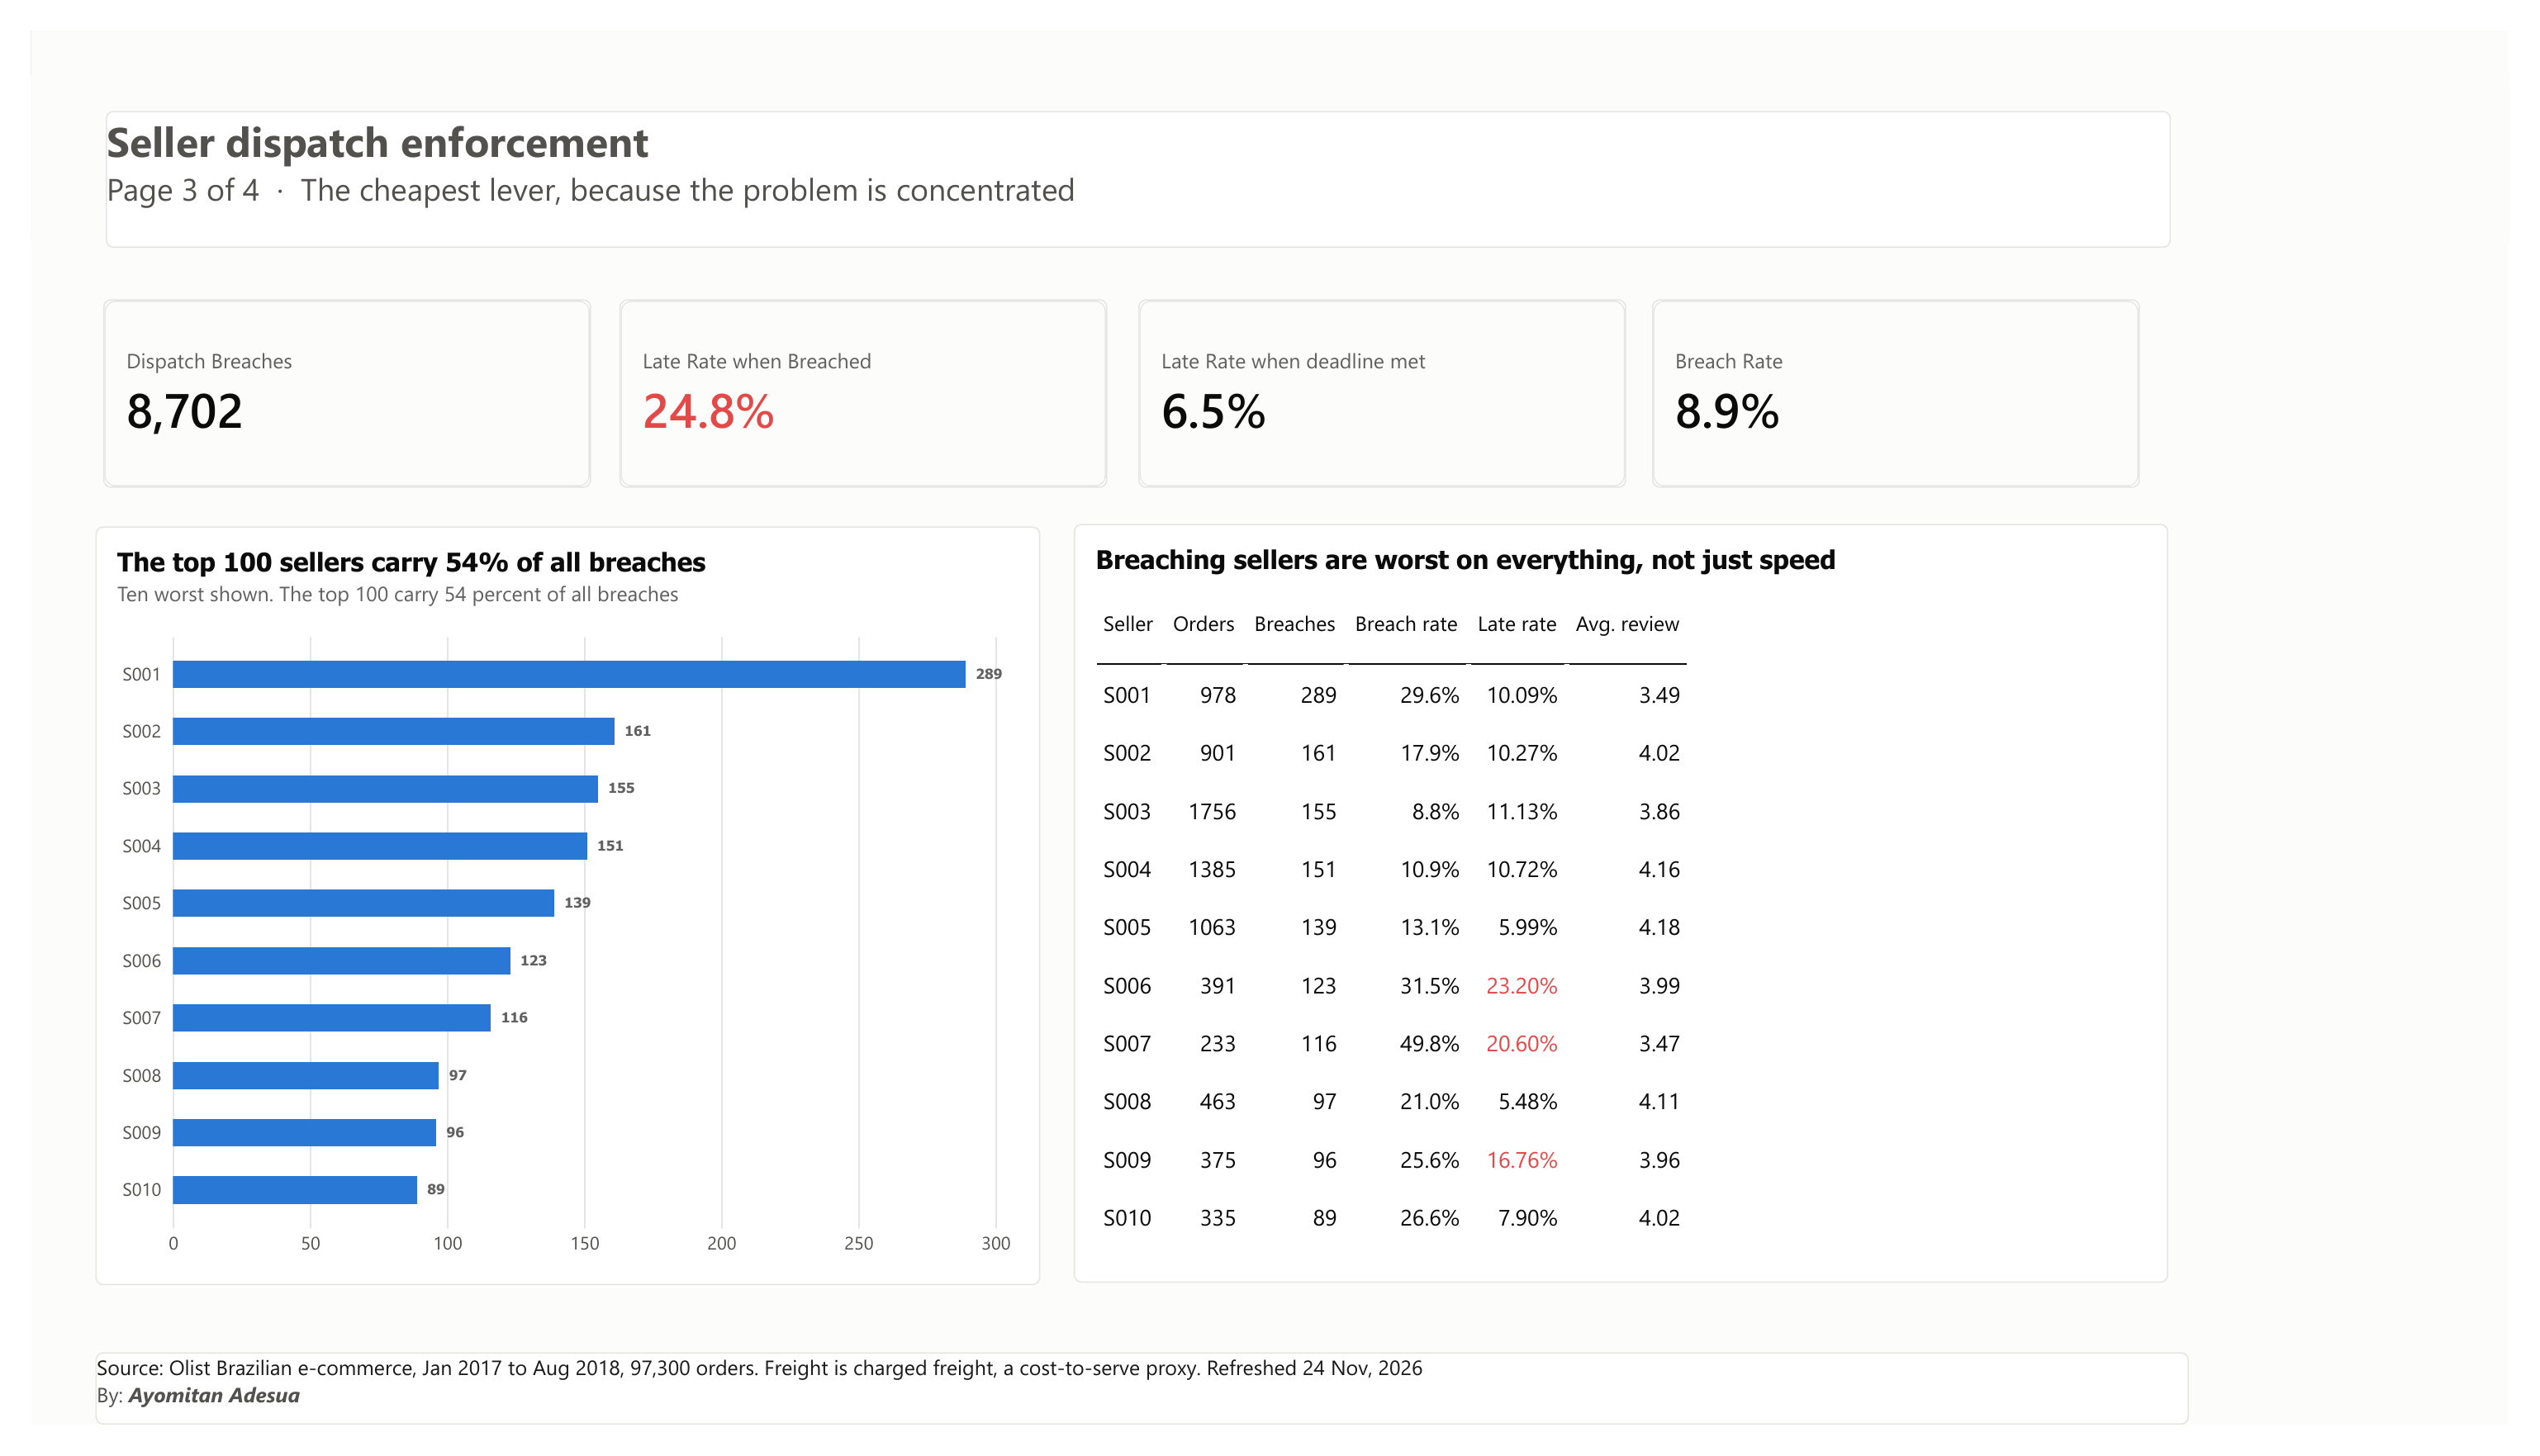

The dashboard page shown, as its layout file describes it:
{"tool":"powerbi","page":{"name":"dispatch enforcement","canvas":[1920,1080],"ordinal":2},"visuals":[{"type":"cardVisual","fields":{"Data":["fact_orders.Dispatch Breaches"]},"box":[56,208,378,146],"z":0},{"type":"cardVisual","fields":{"Data":["fact_orders.Late Rate when Breached"]},"box":[456,208,378,146],"z":1000},{"type":"cardVisual","fields":{"Data":["fact_orders.Late Rate when Met"]},"box":[858,208,378,146],"z":2000},{"type":"cardVisual","fields":{"Data":["fact_orders.Breach Rate"]},"box":[1256,208,378,146],"z":3000},{"type":"barChart","title":"The top 100 sellers carry 54% of all breaches","fields":{"Category":["SellerBreach.seller_ref"],"Y":["Sum(SellerBreach.breaches)"]},"box":[50,384,732,588],"z":4000},{"type":"tableEx","title":"Breaching sellers are worst on everything, not just speed","fields":{"Values":["SellerBreach.seller_ref","Sum(SellerBreach.orders)","Sum(SellerBreach.breaches)","SellerBreach.breach_rate","SellerBreach.late","SellerBreach.review"]},"box":[808,382,848.3,588.3],"z":5000},{"type":"textbox","box":[58,62,1600,106],"z":6000},{"type":"textbox","box":[50,1024,1622,56],"z":7000}]}

Visuals, with their boxes on the page's 1920x1080 design canvas (x1, y1, x2, y2). These are canvas units, not pixel positions in the 2540x1456 screenshot, which may show the page scaled, cropped or inside an application window:
cardVisual - fact_orders.Dispatch Breaches: crop(56, 208, 434, 354)
cardVisual - fact_orders.Late Rate when Breached: crop(456, 208, 834, 354)
cardVisual - fact_orders.Late Rate when Met: crop(858, 208, 1236, 354)
cardVisual - fact_orders.Breach Rate: crop(1256, 208, 1634, 354)
"The top 100 sellers carry 54% of all breaches" barChart: crop(50, 384, 782, 972)
"Breaching sellers are worst on everything, not just speed" tableEx: crop(808, 382, 1656, 970)
textbox: crop(58, 62, 1658, 168)
textbox: crop(50, 1024, 1672, 1080)
